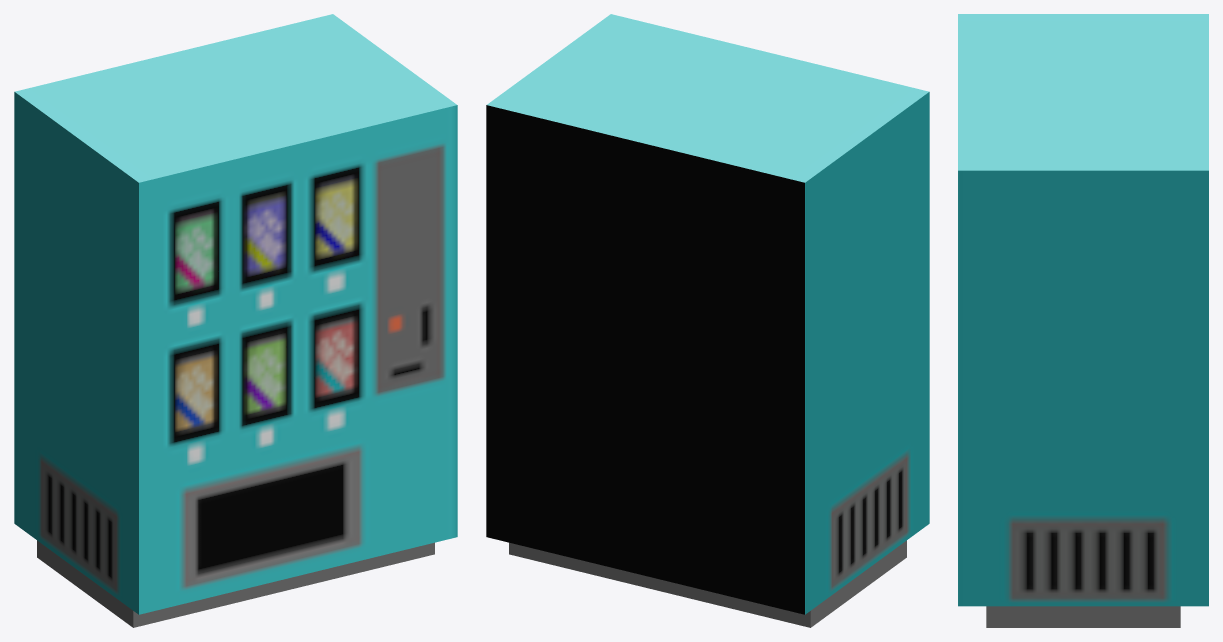
Rendered from SM_VendingMachine_Small_04.fbx.
The picture shows the model from 3 angles, left to right: view 1: azimuth 30°, elevation 25°; view 2: azimuth 150°, elevation 25°; view 3: azimuth 270°, elevation 25°; orthographic projection.
Visible parts, largest first — view 1: SM_VendingMachine_Small_04; view 2: SM_VendingMachine_Small_04; view 3: SM_VendingMachine_Small_04.
Part boxes in pixels (x1=…): SM_VendingMachine_Small_04: x1=14, y1=14, x2=457, y2=627; SM_VendingMachine_Small_04: x1=486, y1=14, x2=929, y2=627; SM_VendingMachine_Small_04: x1=958, y1=14, x2=1208, y2=627.
Size of the model in its own units: 1.52 by 2.09 by 1.03.
